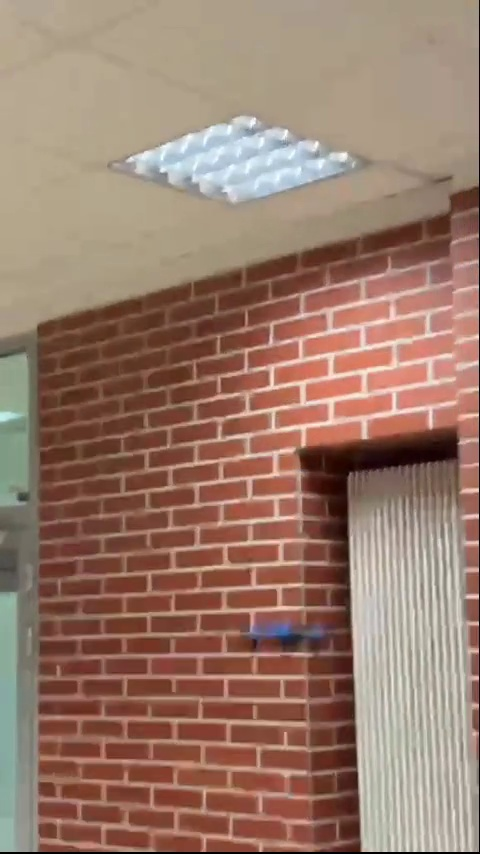drone: (245, 622, 325, 648)
